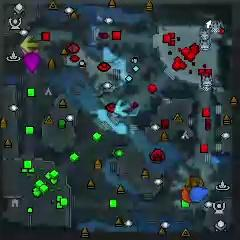p1: (188, 186, 209, 203)
p3: (23, 53, 41, 71)
p5: (181, 187, 194, 203)
x1: (21, 49, 39, 54)
x2: (21, 35, 40, 52)
x3: (115, 100, 131, 118)
x5: (185, 175, 205, 187)
